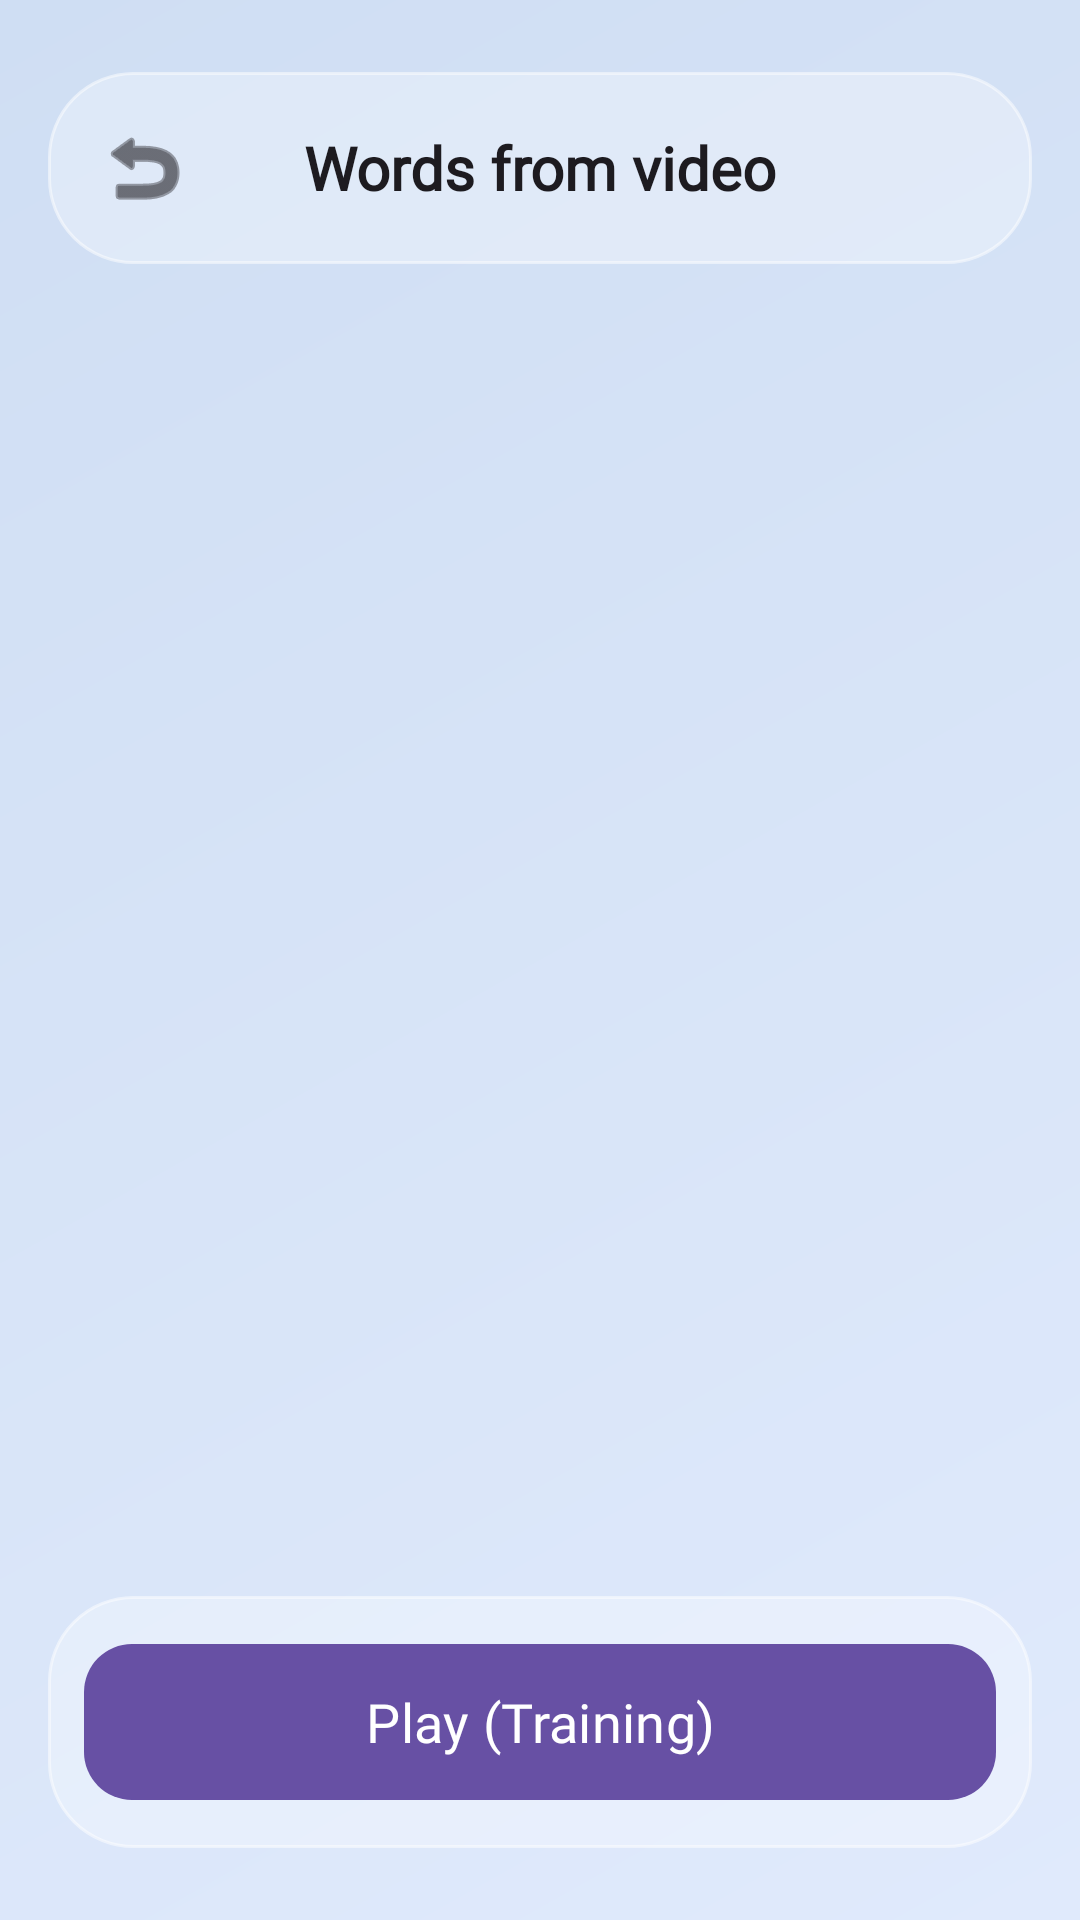

Where icons sit on this 1080 x 1920 app screen, as detection(x1, y1, x2, y2):
revert: detection(111, 137, 180, 200)
